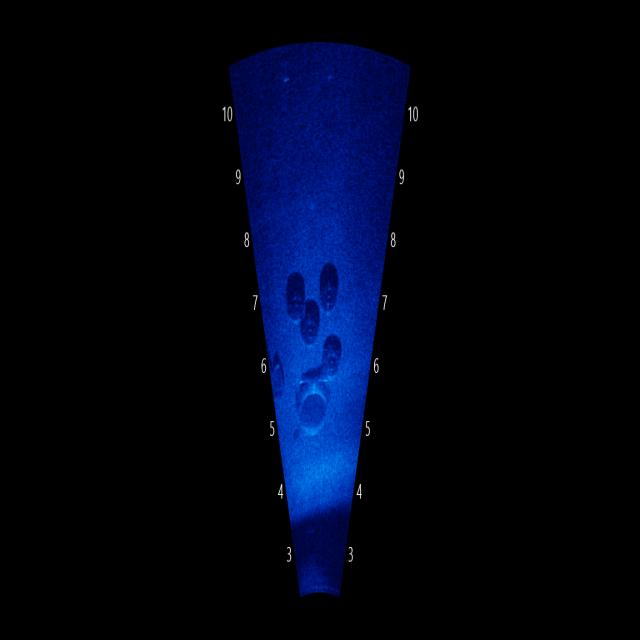circle: (288, 358, 336, 446), (277, 277, 313, 330), (319, 260, 347, 322), (298, 292, 324, 352), (322, 327, 343, 385)
